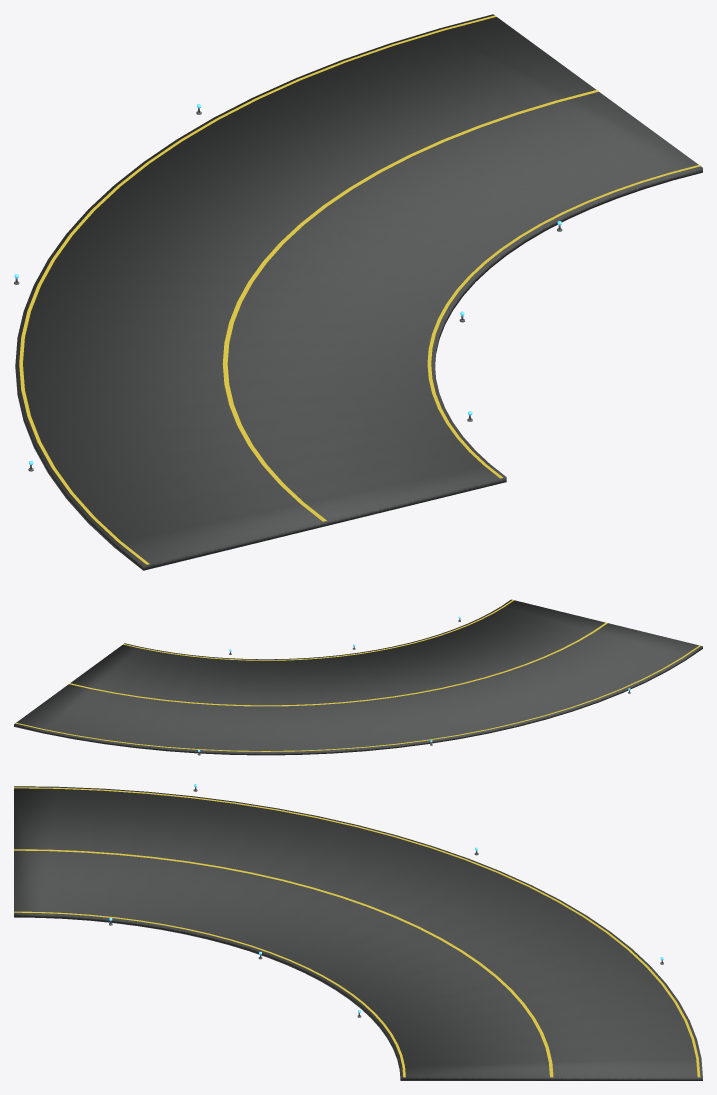
Rendered from PZ_Taxiway_Curve90_R32m.glb.
3 views of the same model, one above another, from view 1: azimuth 30°, elevation 25°; view 2: azimuth 150°, elevation 25°; view 3: azimuth 270°, elevation 25° (orthographic). The views are drawn at different scales.
Parts seen in each view (by area): view 1: TWY_Curve90_R32_Pavement, TWY_Curve_YellowEdge_-1, TWY_Curve_YellowCenterline, TWY_Curve_YellowEdge_1; view 2: TWY_Curve90_R32_Pavement, TWY_Curve_YellowEdge_-1, TWY_Curve_YellowCenterline, TWY_Curve_YellowEdge_1; view 3: TWY_Curve90_R32_Pavement, TWY_Curve_YellowEdge_-1, TWY_Curve_YellowCenterline, TWY_Curve_YellowEdge_1.
Boxes of the visible parts, box(x1,y1,x2,y2) form: TWY_Curve90_R32_Pavement: box(15, 14, 702, 570); TWY_Curve_YellowEdge_-1: box(19, 15, 496, 564); TWY_Curve_YellowCenterline: box(222, 90, 598, 521); TWY_Curve_YellowEdge_1: box(427, 165, 700, 478); TWY_Curve90_R32_Pavement: box(14, 599, 702, 755); TWY_Curve_YellowEdge_-1: box(15, 645, 700, 751); TWY_Curve_YellowCenterline: box(69, 622, 607, 706); TWY_Curve_YellowEdge_1: box(123, 600, 514, 660); TWY_Curve90_R32_Pavement: box(14, 786, 702, 1080); TWY_Curve_YellowEdge_-1: box(14, 787, 700, 1077); TWY_Curve_YellowCenterline: box(14, 849, 553, 1077); TWY_Curve_YellowEdge_1: box(14, 911, 405, 1077).
Size of the model in its own units: 41 by 0.64 by 41.
Materials: 4 (3 with a texture image).
